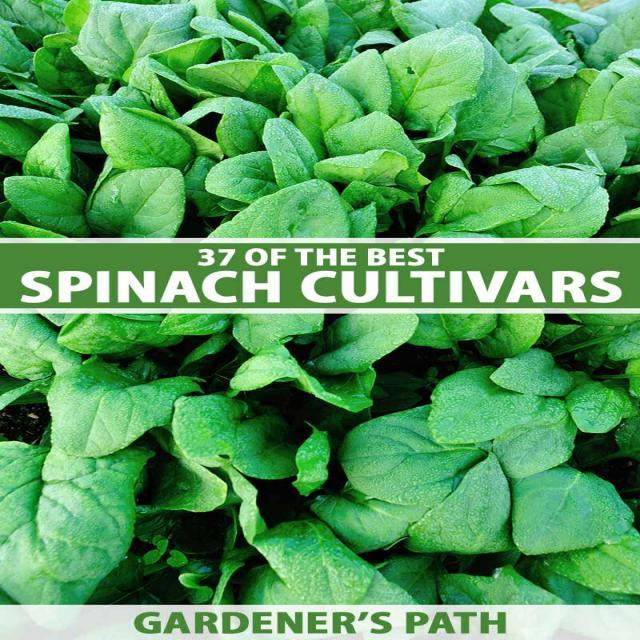Spinach: (0, 313, 640, 602), (3, 0, 640, 237)
